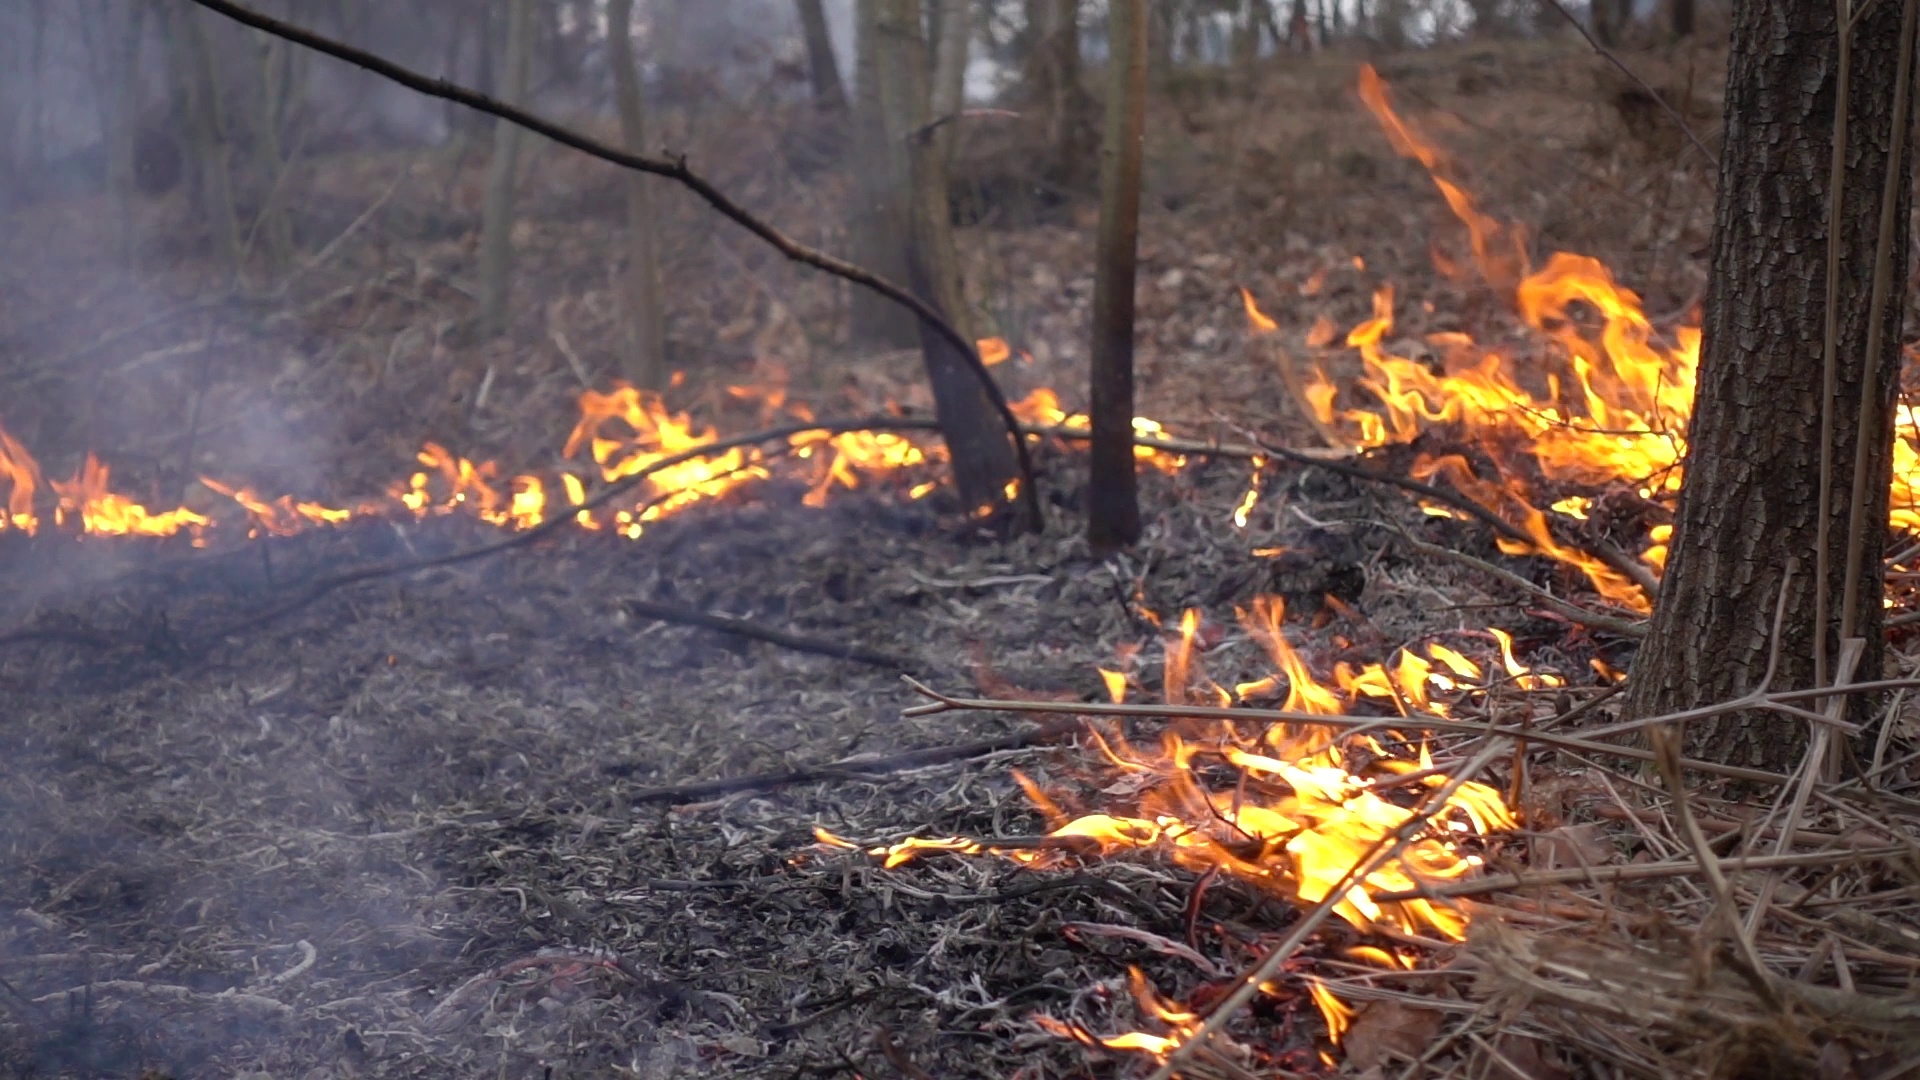fire: (1269, 256, 1685, 582), (1100, 611, 1477, 935), (571, 390, 720, 508), (1, 460, 141, 535), (415, 468, 542, 517), (807, 430, 913, 469), (1894, 434, 1920, 524)
